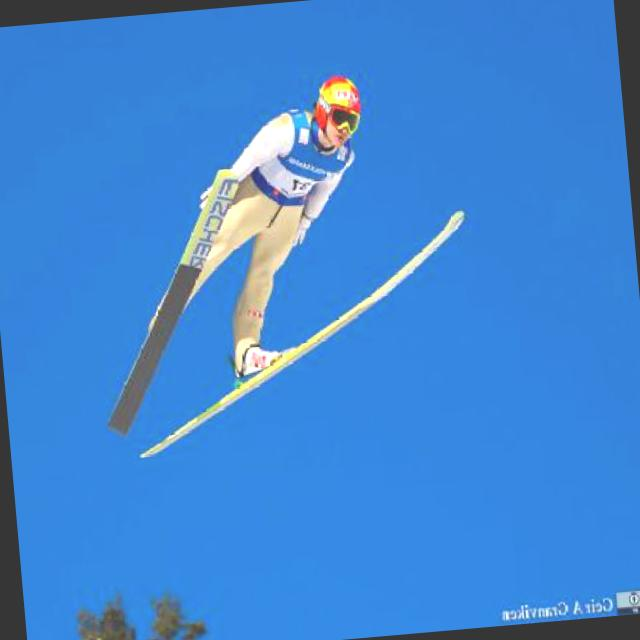Person: (166, 74, 384, 381)
